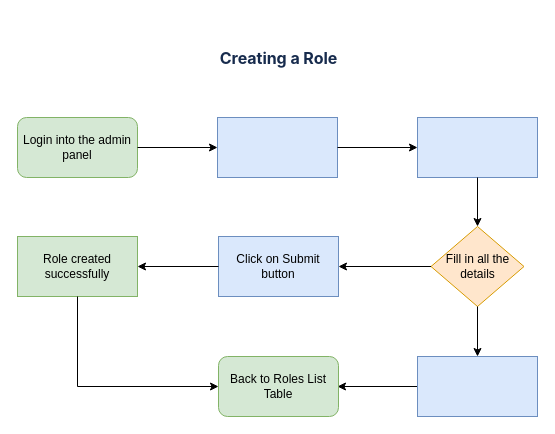
Image size: 555x434. Some labels were removed from this diagram. The shapes that lost their labels are listed below. From the top down, each one's box as (x1, y1, x2, y2) in pixels, then its label:
(216, 116, 338, 178): Go to the Role Management page
(416, 116, 538, 178): Click on the Create Role button
(416, 356, 538, 416): Click on the Cancel button
